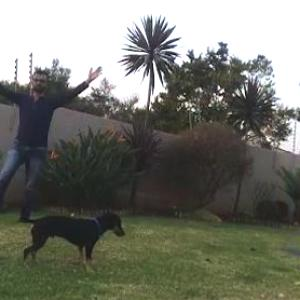takeoff: (0, 68, 95, 199)
